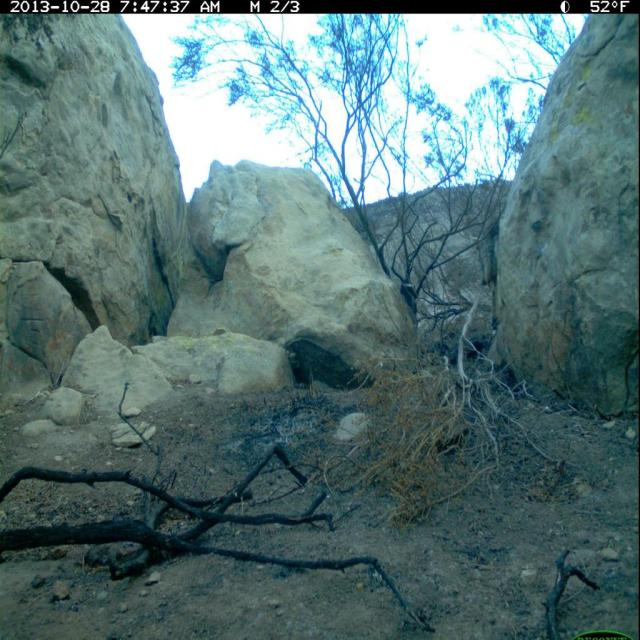coyote: (476, 216, 516, 336)
